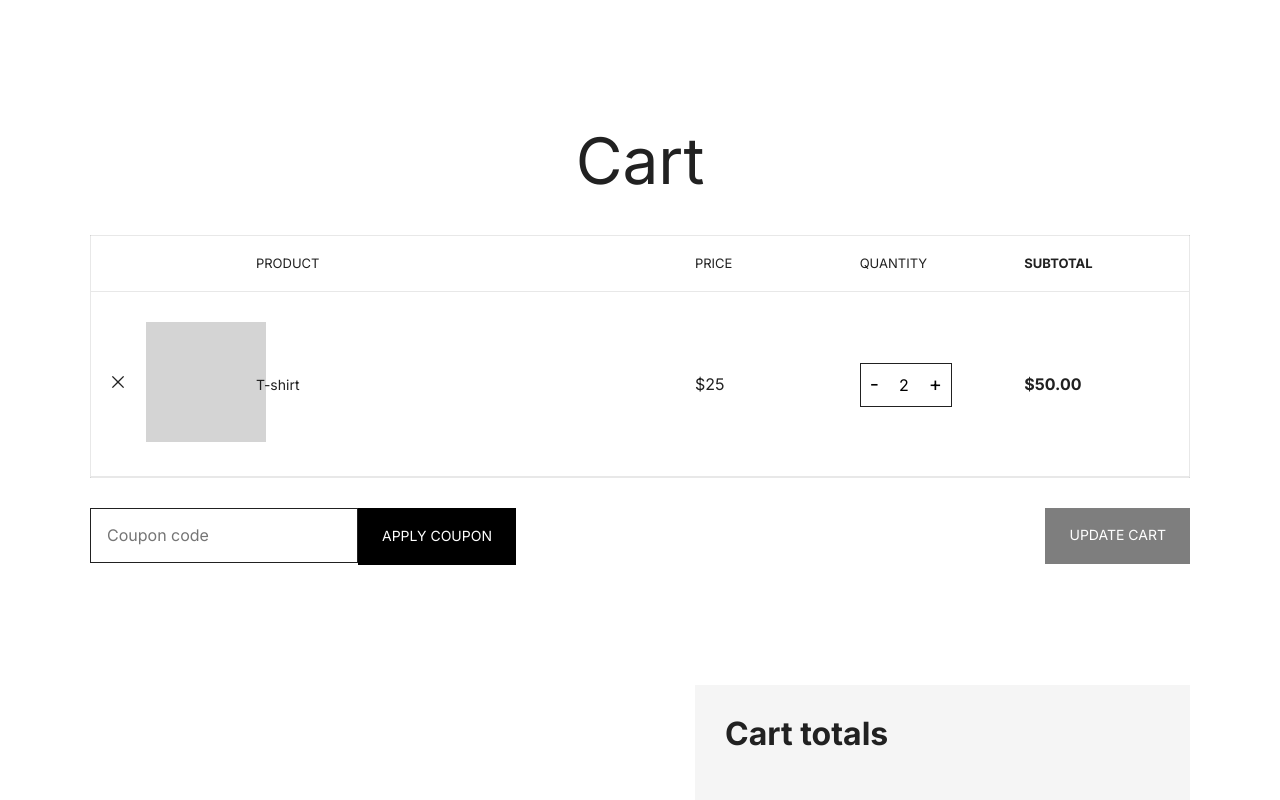
Test case: Cart › should enable update cart button if item quantity is changed
Click the button named "increment quantity". click: (935, 384)
box: [929,373,942,396]
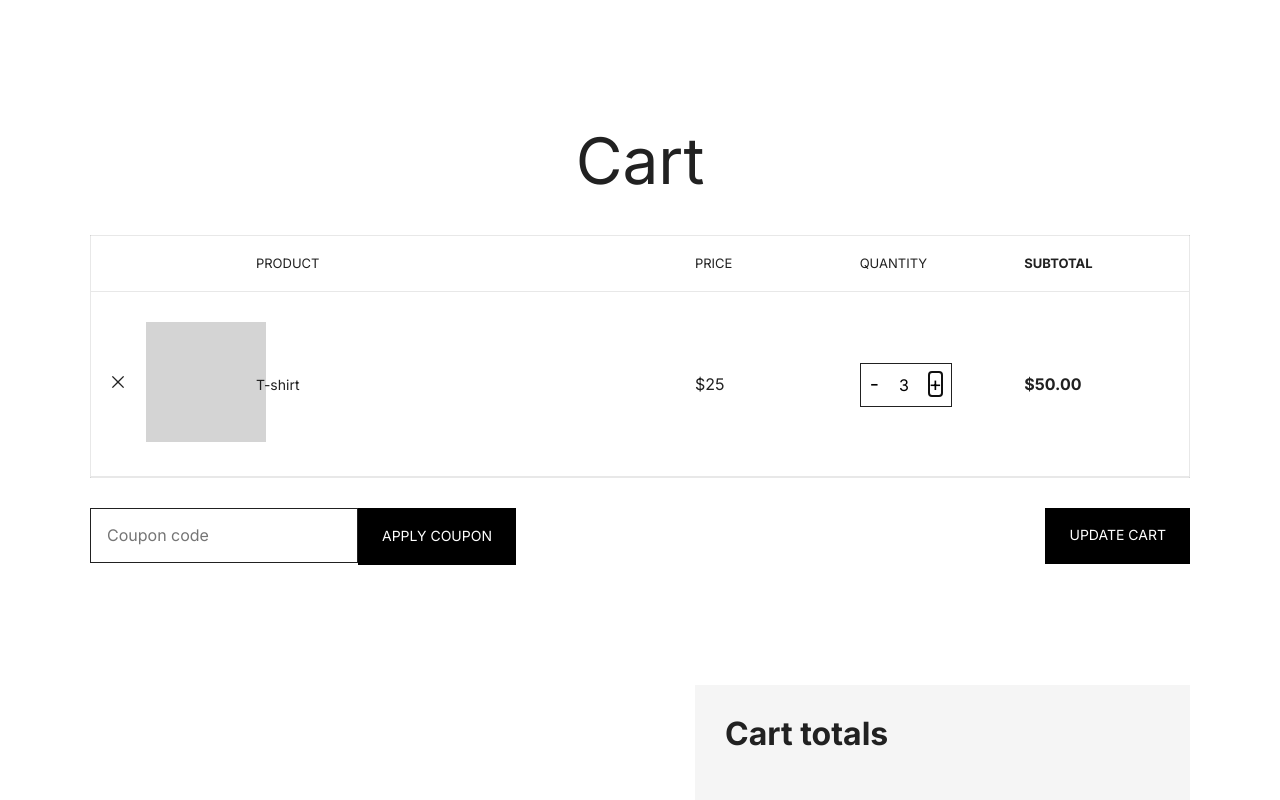
Expected: the button with test id "update-cart-button" is enabled, [1046,508,1190,564]
